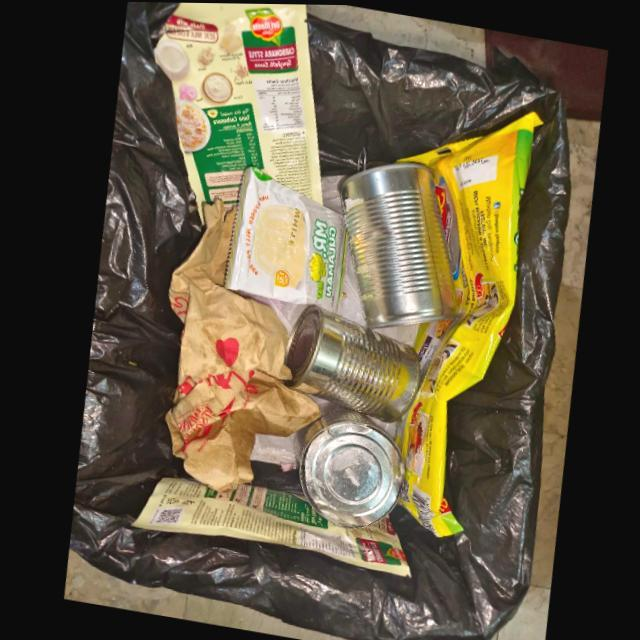metal: (339, 163, 456, 327), (279, 304, 417, 423), (290, 402, 400, 528)
paper: (161, 199, 318, 492)
wrapper: (393, 111, 541, 536), (154, 2, 321, 210), (126, 478, 405, 576), (223, 167, 346, 314)
